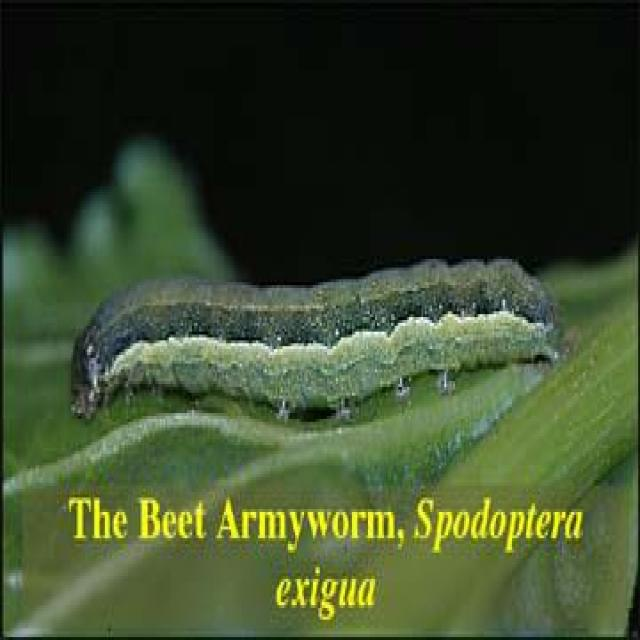BeetArmyWorm-Larva-: (49, 252, 573, 459)
